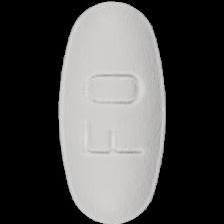68151-4717: (0, 0, 224, 224)
